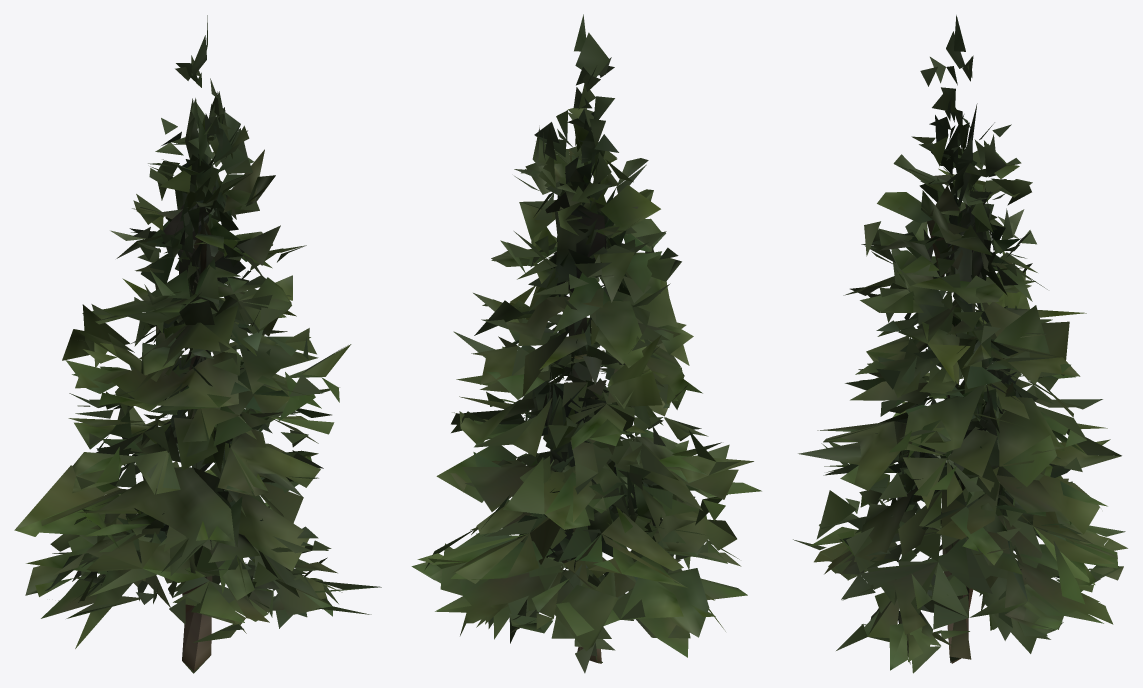
Rendered from meshy-pine-m0-lod.glb.
The picture shows the model from 3 angles, left to right: view 1: azimuth 30°, elevation 25°; view 2: azimuth 150°, elevation 25°; view 3: azimuth 270°, elevation 25°; orthographic projection.
Parts seen in each view (by area): view 1: Mesh_0; view 2: Mesh_0; view 3: Mesh_0.
Boxes of the visible parts, x1,y1,x2,y2 form: Mesh_0: [14, 15, 381, 673]; Mesh_0: [411, 14, 761, 673]; Mesh_0: [793, 15, 1127, 673].
Bounding box in the file's own units: 0.8193 × 1.71 × 0.7937.
1 material, 1 textured.
